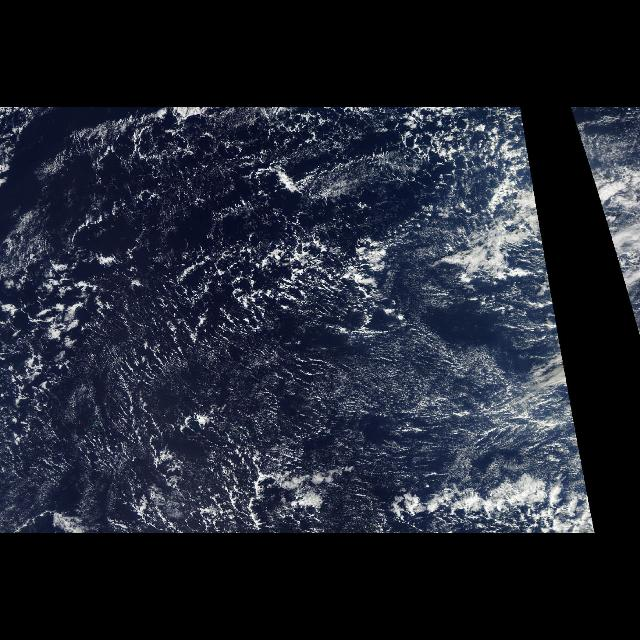Gravel: (2, 113, 512, 531)
Sugar: (259, 326, 516, 468)
